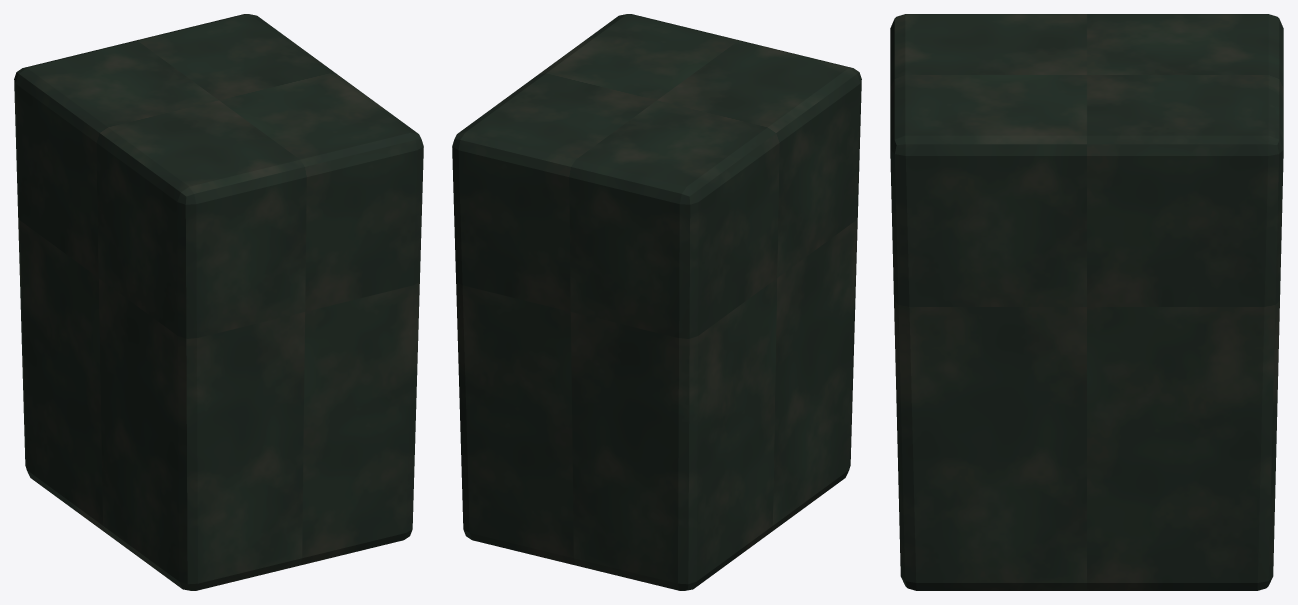
Rendered from Street_Bin4.obj.
3 views of the same model, side by side, from view 1: azimuth 30°, elevation 25°; view 2: azimuth 150°, elevation 25°; view 3: azimuth 270°, elevation 25° (orthographic). The views are drawn at different scales.
Size of the model in its own units: 0.6137 by 0.98 by 0.7619.
Materials: 1 (1 with a texture image).
